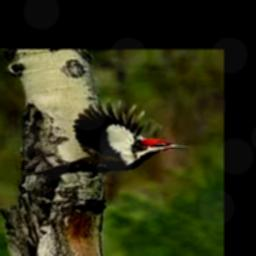Woodpecker: (28, 99, 192, 180)
